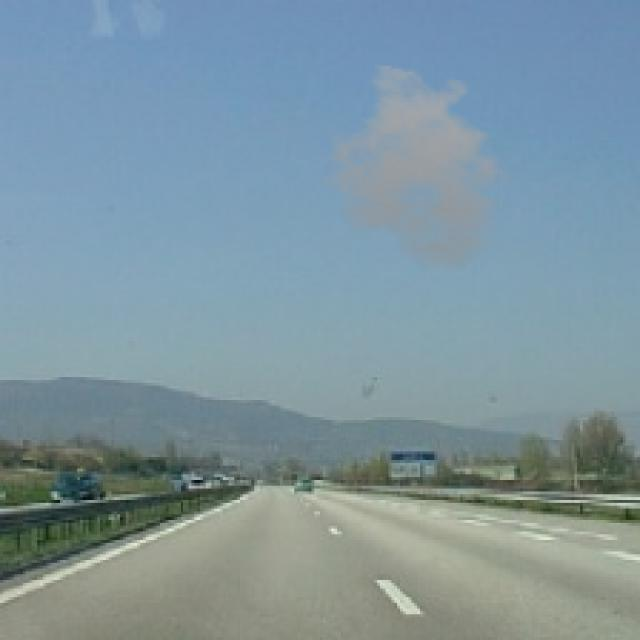smoke: (320, 63, 523, 271)
